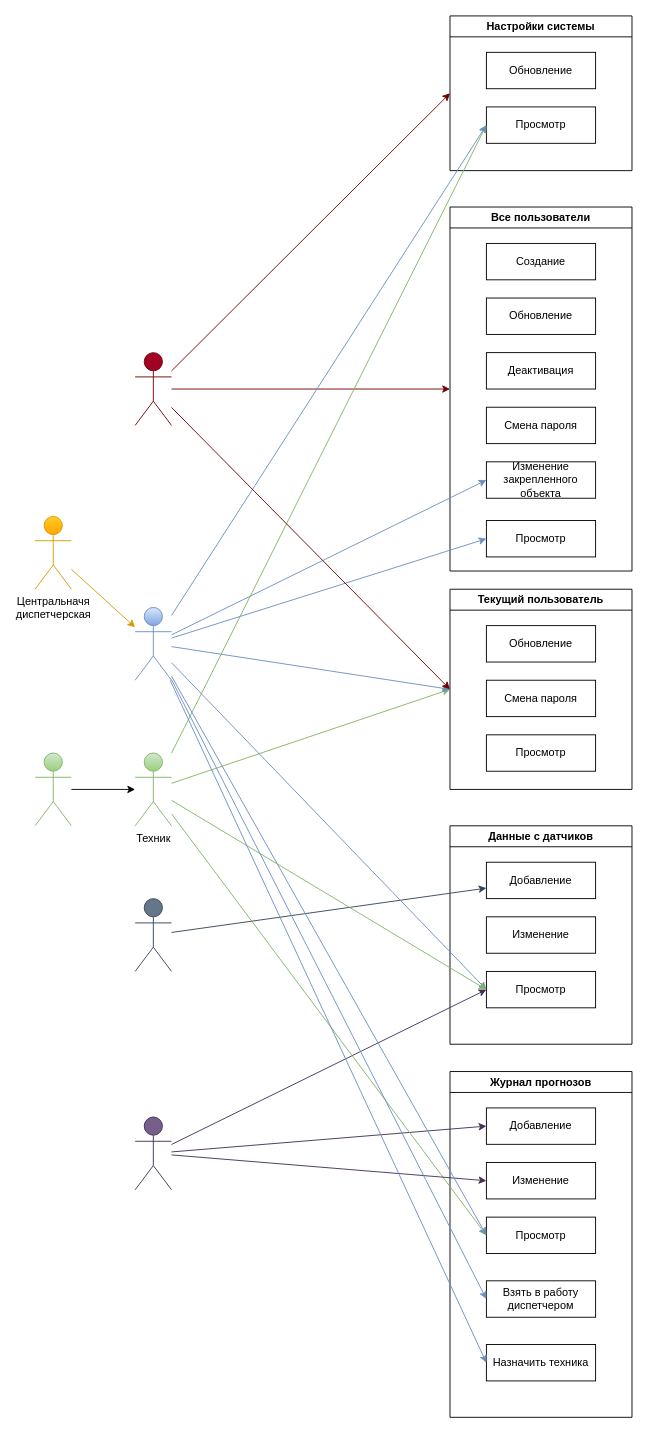
Image size: 648x1433. Some labels were removed from this diagram. Each missing label, with the centre of its shape:
ML Модель: the point at 153,1153
Администратор: the point at 153,388
Внешние сервисы: the point at 153,934
Группа реагирования: the point at 52,789
Диспетчер: the point at 153,643
